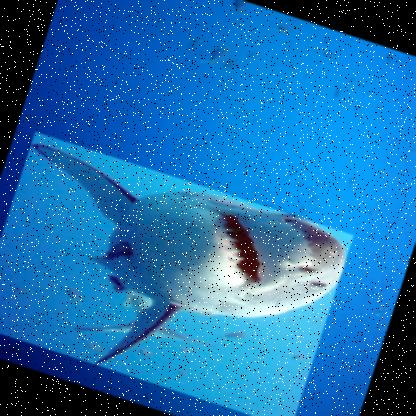white-shark: (0, 131, 354, 415)
